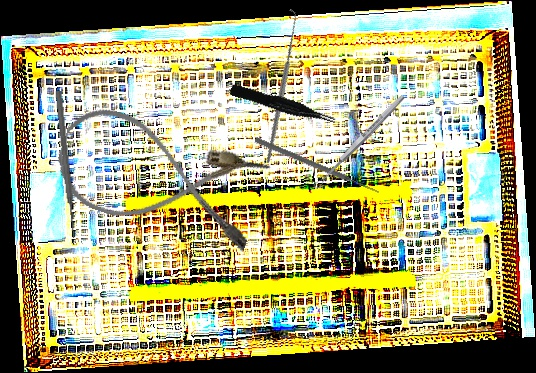Cannula: (46, 98, 273, 258)
Hook Surgical: (204, 8, 355, 164)
Pusher: (253, 136, 381, 196), (53, 90, 79, 239)
Surgical Spoon: (311, 93, 407, 191)
Tissue Forceps: (229, 79, 337, 132)
